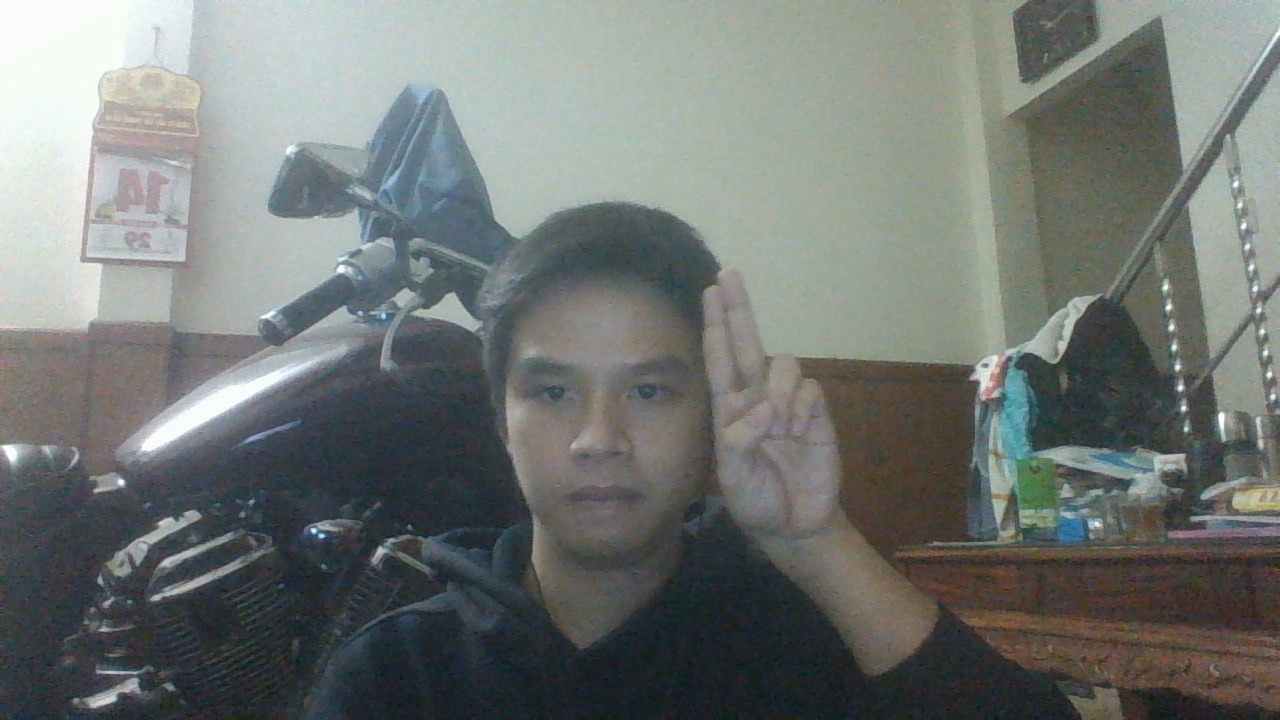write2: (704, 270, 845, 538)
